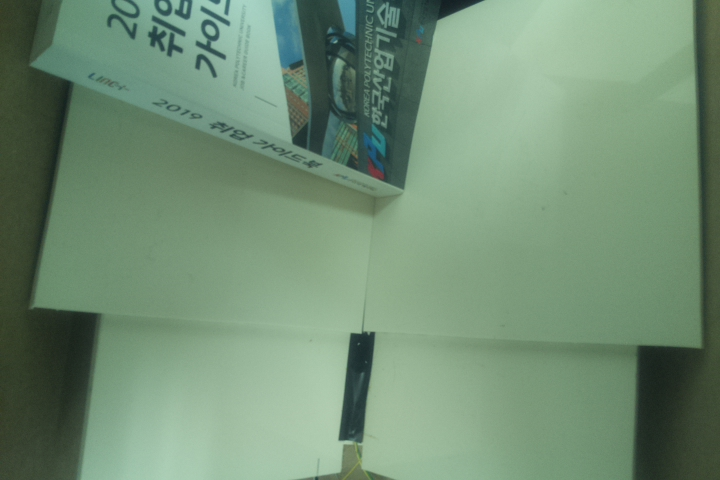book: (26, 1, 444, 203)
